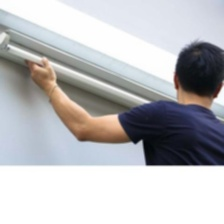light_bulb: (2, 41, 219, 135)
